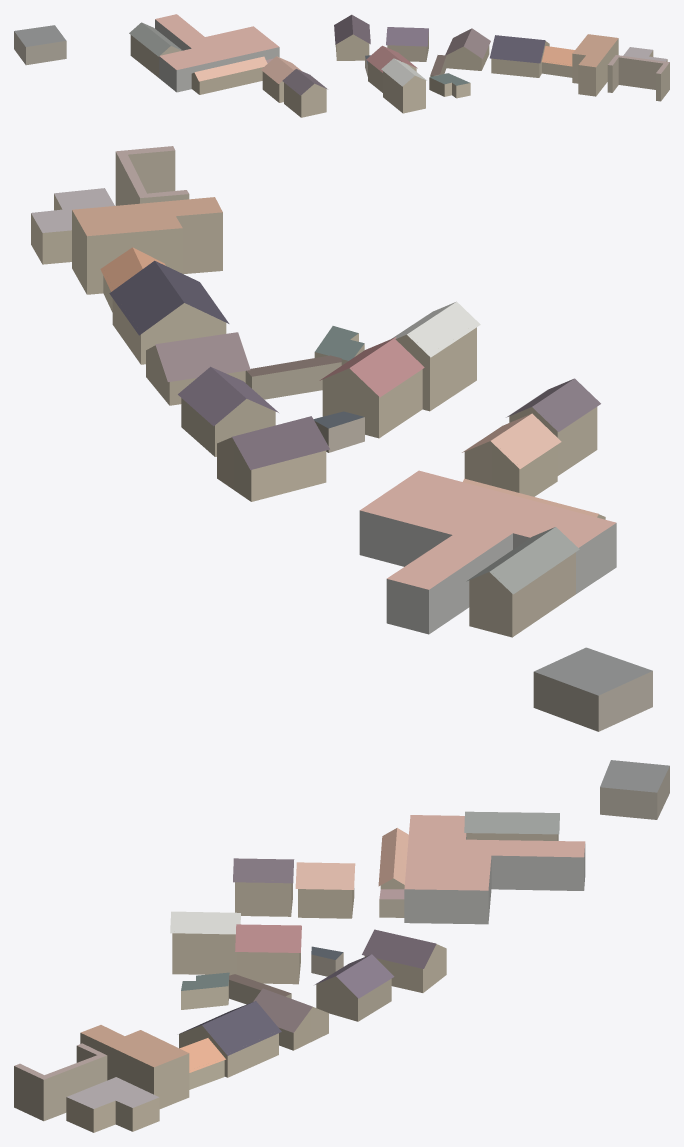
3 renders of one model, top to bottom at view 1: azimuth 30°, elevation 25°; view 2: azimuth 150°, elevation 25°; view 3: azimuth 270°, elevation 25°, orthographic. The views are drawn at different scales.
Parts seen in each view (by area): view 1: tuile; view 2: tuile; view 3: tuile.
Boxes of the visible parts, x1,y1,x2,y2 form: tuile: [14, 14, 669, 117]; tuile: [31, 146, 652, 731]; tuile: [14, 760, 669, 1132].
Bounding box in the file's own units: 135 × 10.05 × 108.
